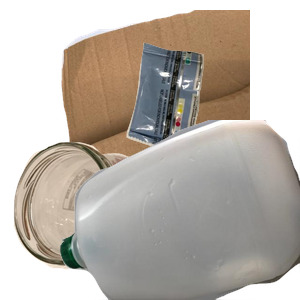cardboard: (43, 10, 283, 190)
glass: (11, 139, 179, 300)
plastic: (60, 120, 300, 300)
trash: (124, 40, 300, 188)
